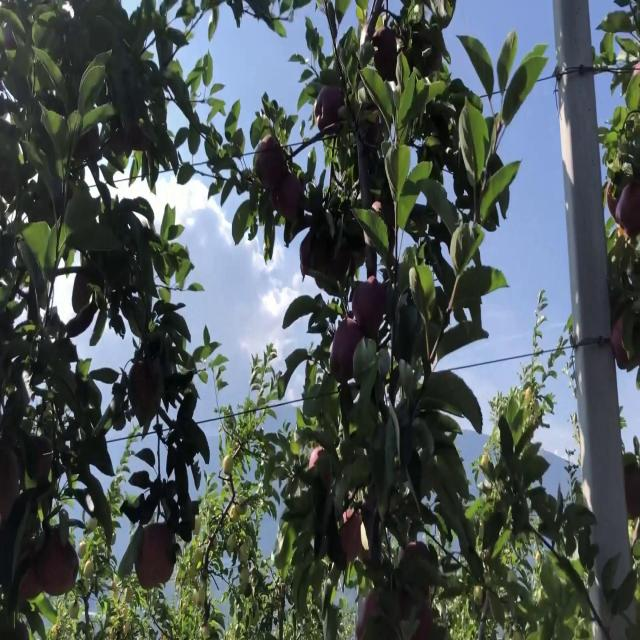apple: (44, 533, 80, 599), (352, 277, 387, 340), (144, 519, 176, 585), (128, 362, 162, 423), (332, 319, 363, 382), (256, 135, 288, 192), (372, 28, 400, 84), (316, 85, 346, 137), (276, 170, 304, 224), (340, 511, 367, 565), (0, 455, 21, 524), (616, 184, 640, 240), (612, 312, 634, 373), (356, 590, 381, 638), (300, 234, 321, 277), (20, 568, 43, 604), (308, 447, 331, 482), (136, 554, 156, 592), (416, 604, 434, 639), (36, 455, 51, 482), (608, 184, 619, 220)
